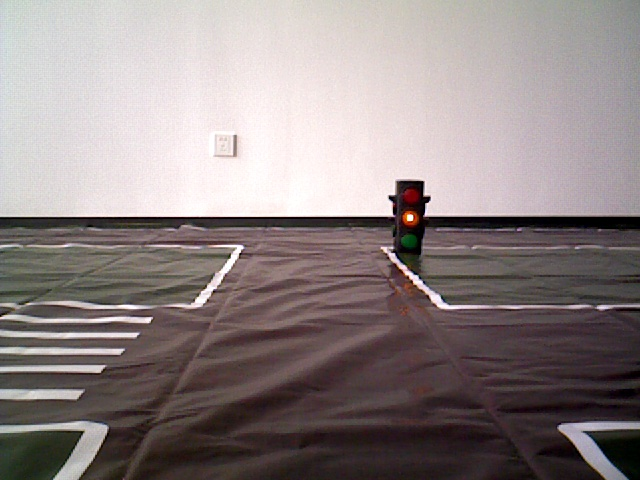yellow: (389, 176, 429, 255)
